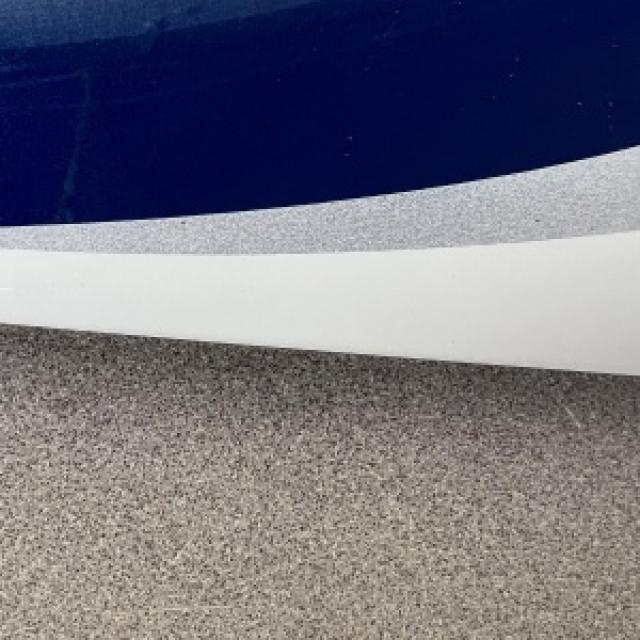healthy: (0, 324, 638, 638), (0, 0, 638, 250)
